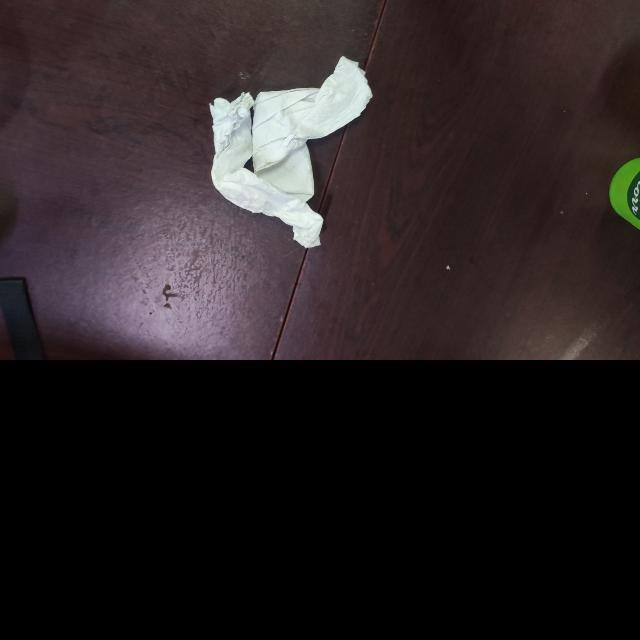kitchen paper: (209, 55, 373, 251)
